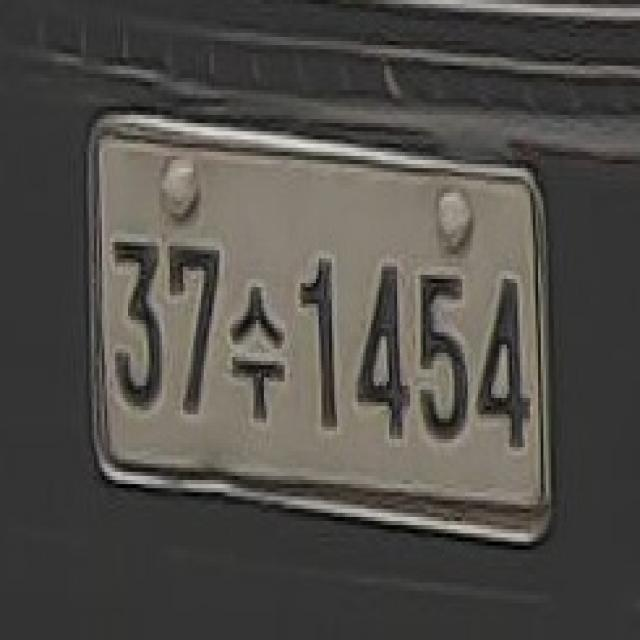1: (295, 250, 340, 435)
3: (104, 238, 164, 414)
4: (353, 258, 410, 439), (475, 271, 533, 447)
5: (413, 259, 470, 443)
7: (167, 234, 222, 418)
license_plate: (84, 123, 551, 521)
su: (228, 283, 288, 427)
